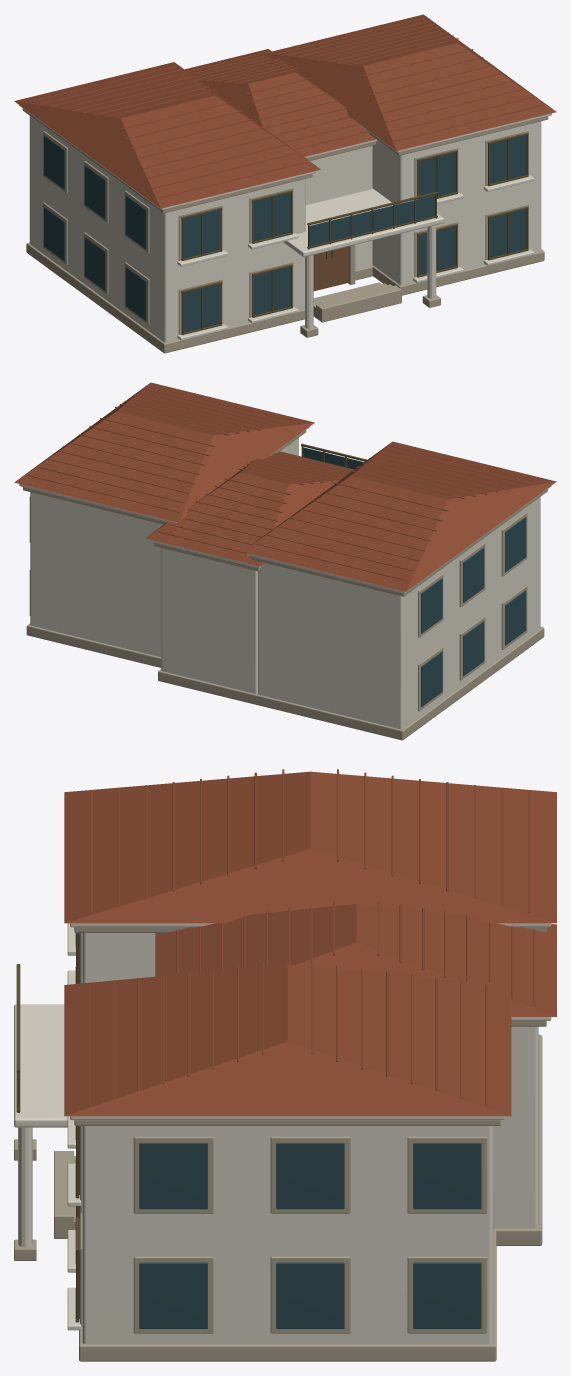
Rendered from palm-court-villa.glb.
3 views of the same model, one above another, from view 1: azimuth 30°, elevation 25°; view 2: azimuth 150°, elevation 25°; view 3: azimuth 270°, elevation 25° (orthographic). The views are drawn at different scales.
Parts seen in each view (by area): view 1: Hipped terracotta roof, Stucco villa wing, Architectural glazing, Foundation plinth, Window mullion, Carved entrance door; view 2: Stucco villa wing, Hipped terracotta roof, Foundation plinth, Architectural glazing; view 3: Hipped terracotta roof, Stucco villa wing, Architectural glazing, Foundation plinth, Window mullion.
Part boxes in pixels (x1,y1,x2,y2): Hipped terracotta roof: [14, 14, 556, 208]; Stucco villa wing: [19, 105, 551, 342]; Architectural glazing: [44, 135, 526, 332]; Foundation plinth: [22, 108, 548, 353]; Window mullion: [181, 132, 528, 334]; Carved entrance door: [313, 246, 348, 290]; Stucco villa wing: [19, 426, 551, 729]; Hipped terracotta roof: [14, 382, 556, 591]; Foundation plinth: [23, 430, 547, 740]; Architectural glazing: [303, 447, 526, 706]; Hipped terracotta roof: [64, 769, 556, 1116]; Stucco villa wing: [14, 923, 551, 1344]; Architectural glazing: [79, 933, 481, 1328]; Foundation plinth: [14, 927, 546, 1361]; Window mullion: [16, 933, 79, 1322].
Bounding box in the file's own units: 16.8 × 7.3 × 11.9.
